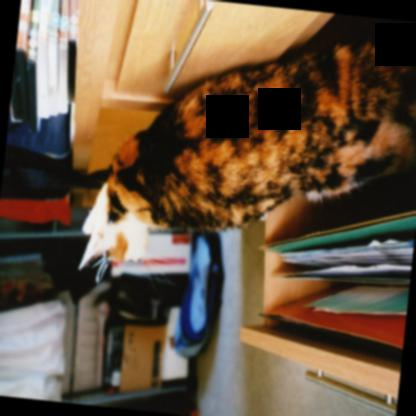backpack: (167, 224, 222, 356)
